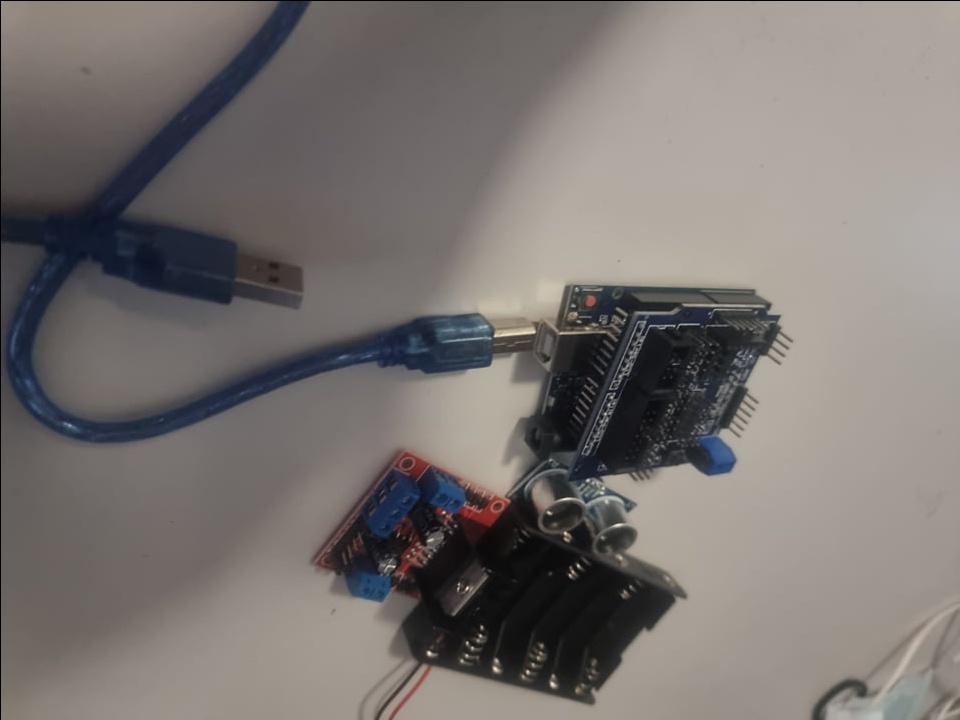5V EXPANSION: (596, 316, 784, 483)
BATTERY BOX: (409, 522, 687, 709)
MOTOR: (312, 449, 509, 624)
SENSOR: (513, 470, 643, 555)
UNO R3: (519, 269, 611, 462)
